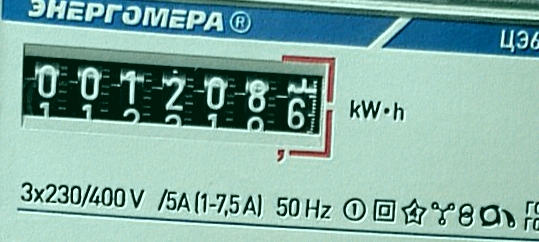0: (34, 60, 61, 100), (77, 64, 103, 102), (202, 74, 228, 111)
1: (119, 67, 142, 107)
2: (161, 74, 189, 113)
6: (283, 94, 308, 131)
8: (243, 77, 270, 115)
screen: (11, 35, 345, 164)
